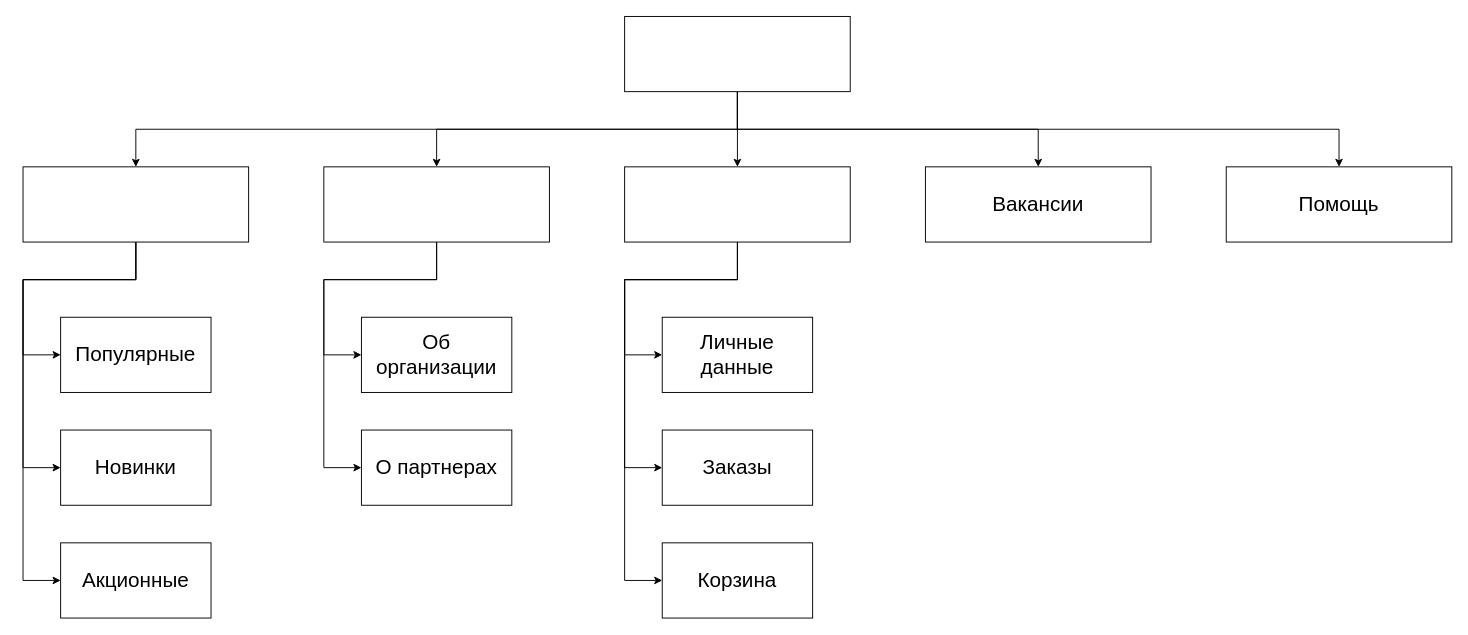
The diagram is 1468 pixels wide and 635 high, and some of its shapes have lost their labels. The centre of each missing label's shape, as x and y in pixels:
"Главная страница" belongs at (737,54).
"Каталог" belongs at (135,204).
"Личный кабинет" belongs at (737,204).
"О Нас" belongs at (436,204).
